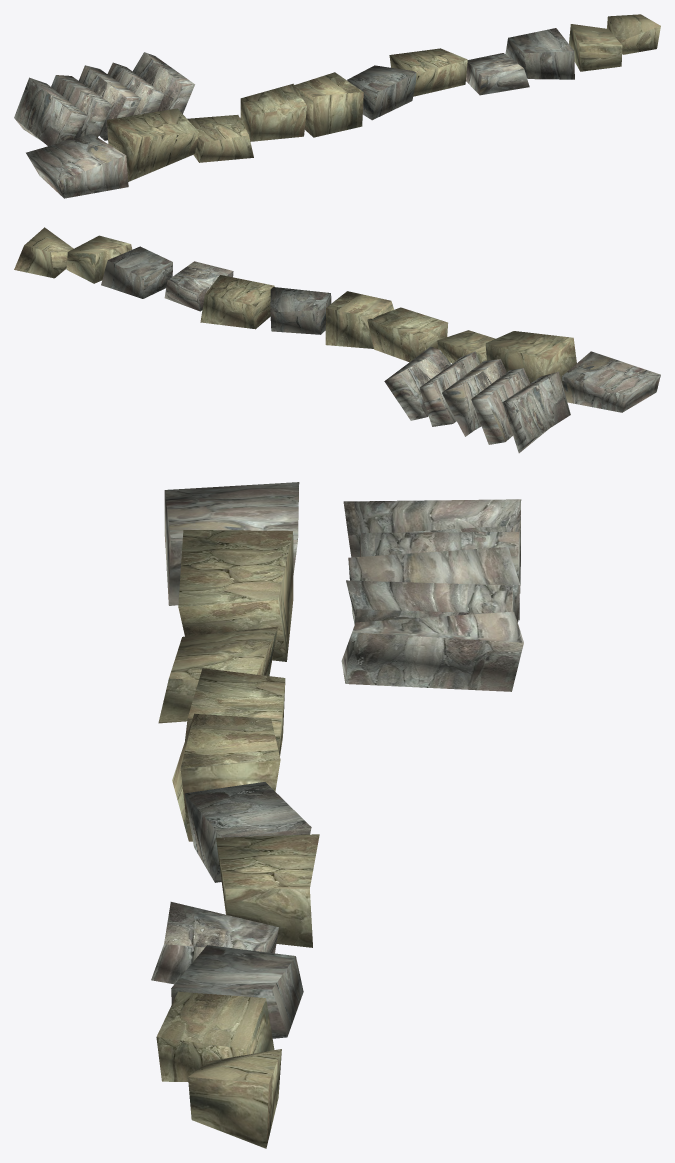
File: kit_sr_coping_row_p.glb
3 views of the same model, one above another, from view 1: azimuth 30°, elevation 25°; view 2: azimuth 150°, elevation 25°; view 3: azimuth 270°, elevation 25° (orthographic). The views are drawn at different scales.
Visible parts, largest first — view 1: kit_sr_coping_row_p; view 2: kit_sr_coping_row_p; view 3: kit_sr_coping_row_p.
Part boxes in pixels (x1,y1,x2,y2): kit_sr_coping_row_p: (14, 14, 660, 198); kit_sr_coping_row_p: (14, 227, 660, 453); kit_sr_coping_row_p: (151, 482, 523, 1148).
Size of the model in its own units: 3.57 by 0.2962 by 0.9321.
1 material, 1 textured.
